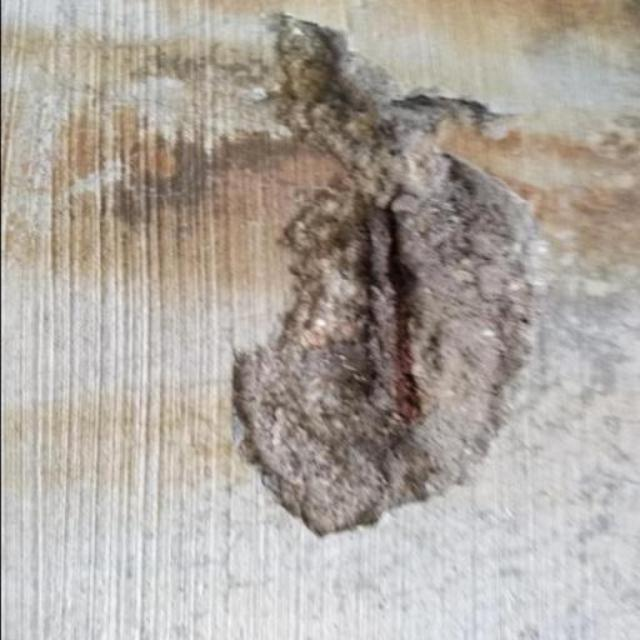D10: (234, 10, 540, 536)
